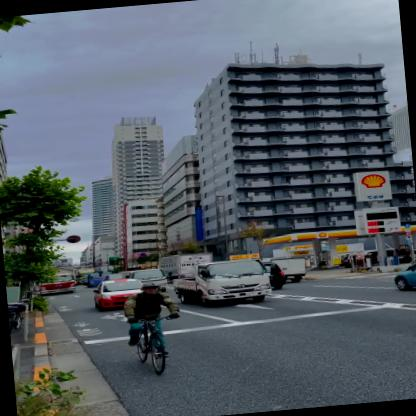bus: (38, 272, 75, 294)
car: (90, 278, 146, 310), (389, 257, 415, 295)
motorcycle: (122, 281, 186, 378)
truck: (168, 258, 272, 310), (118, 268, 168, 295)
